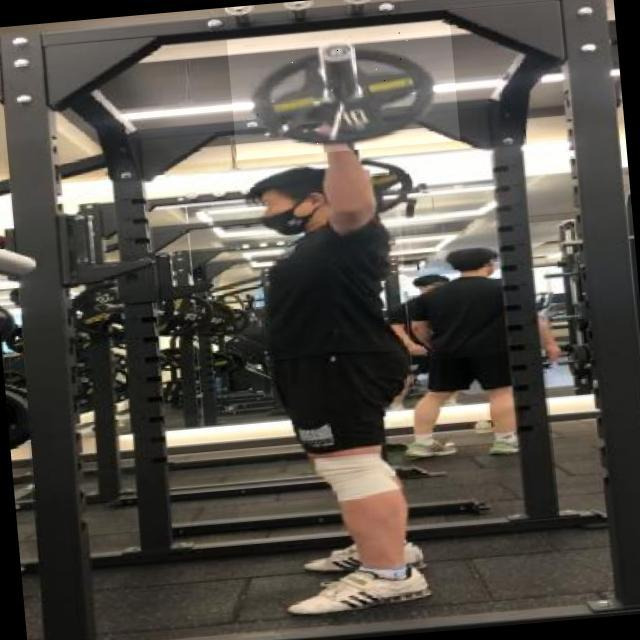barbell: (228, 21, 464, 161)
